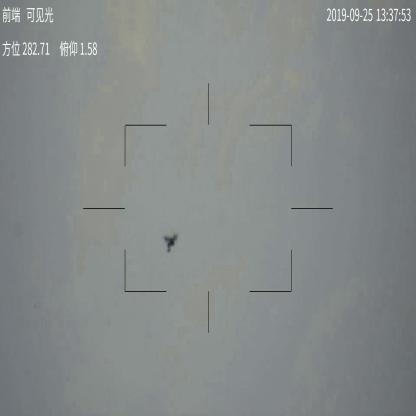uav: (163, 230, 180, 255)
